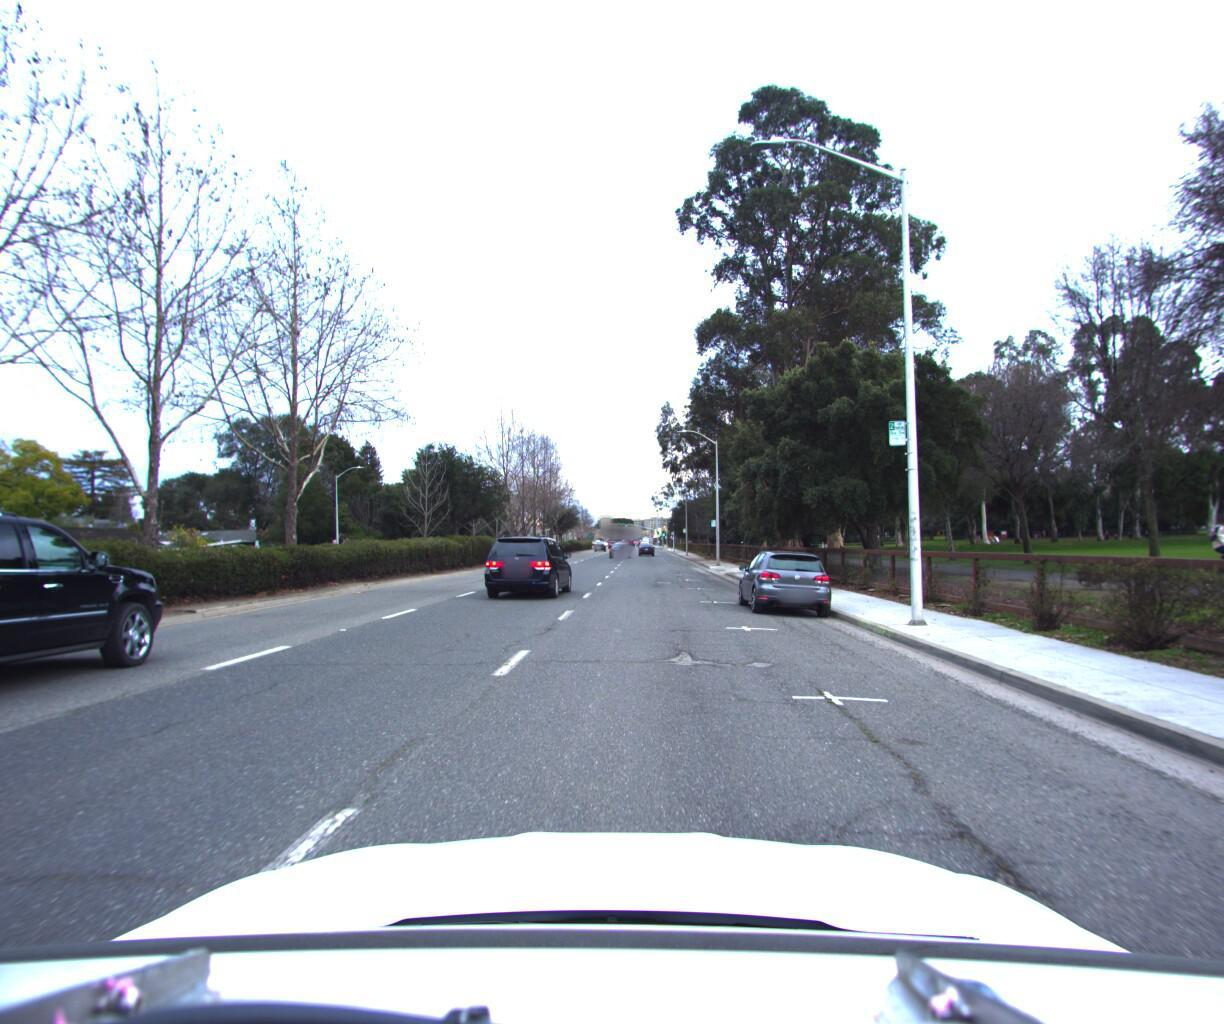bicycle: (1173, 497, 1224, 585)
car: (729, 538, 842, 613), (479, 533, 574, 598), (603, 535, 627, 553)
